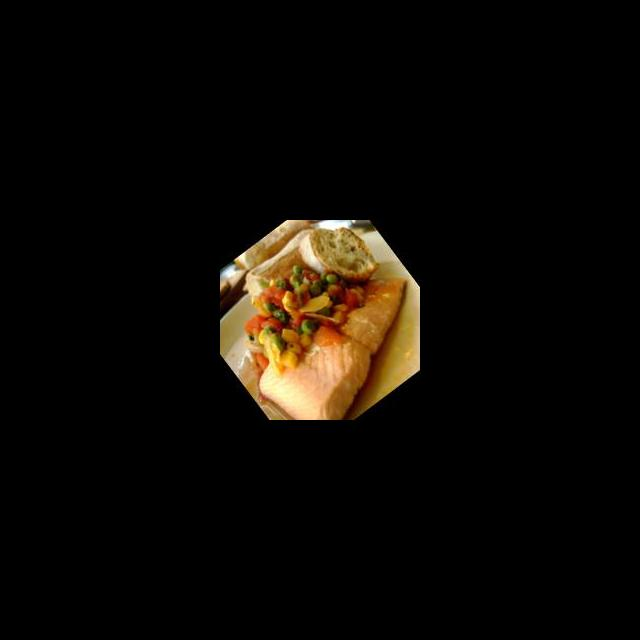ca hoi: (242, 260, 420, 420)
